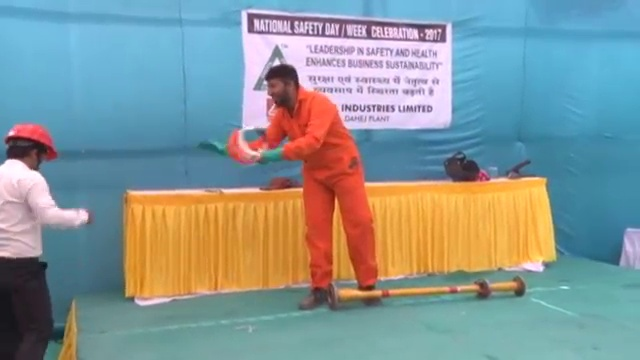helmet: (4, 123, 59, 161)
helmet_off: (264, 62, 302, 107)
helmet_on: (3, 122, 60, 175)
person: (234, 61, 385, 309), (1, 119, 93, 360)
